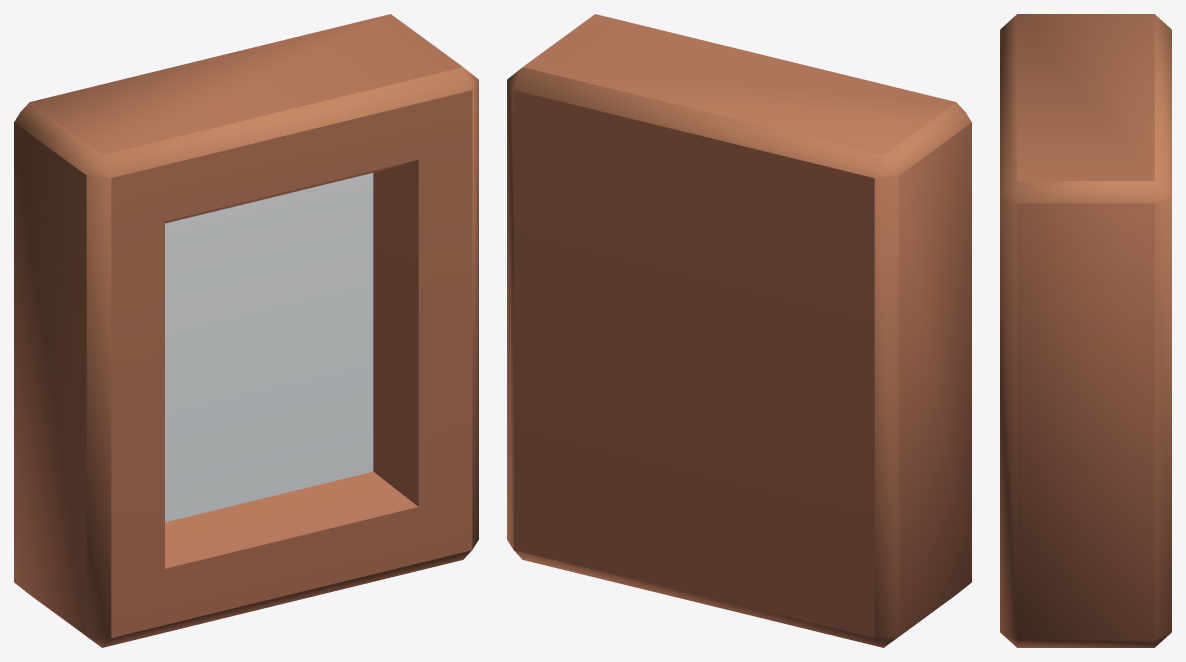
File: pictureframe_small_A.obj
3 views of the same model, side by side, from view 1: azimuth 30°, elevation 25°; view 2: azimuth 150°, elevation 25°; view 3: azimuth 270°, elevation 25° (orthographic). The views are drawn at different scales.
Visible parts, largest first — view 1: pictureframe_small_A_Cube.014; view 2: pictureframe_small_A_Cube.014; view 3: pictureframe_small_A_Cube.014.
Part boxes in pixels (box(x1,y1,x2,y2)): pictureframe_small_A_Cube.014: box(14, 14, 478, 647); pictureframe_small_A_Cube.014: box(507, 14, 971, 647); pictureframe_small_A_Cube.014: box(1000, 14, 1171, 647).
Size of the model in its own units: 0.5 by 0.6 by 0.2.
1 material, 1 textured.
